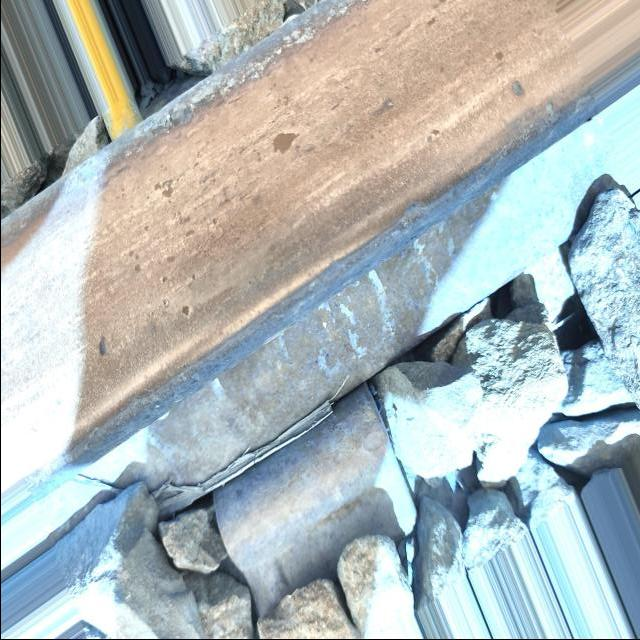squats_high: (272, 130, 300, 158), (152, 173, 177, 203), (95, 330, 109, 361), (509, 81, 525, 100), (181, 302, 191, 319), (495, 50, 503, 63)
